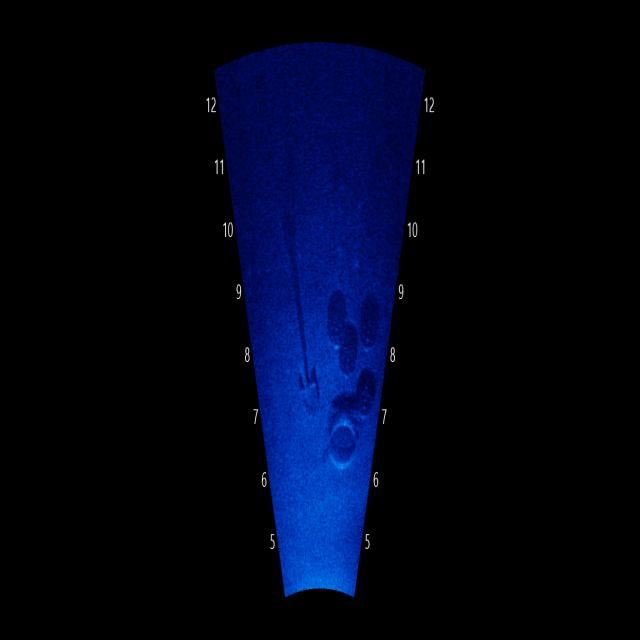circle: (324, 398, 358, 486)
